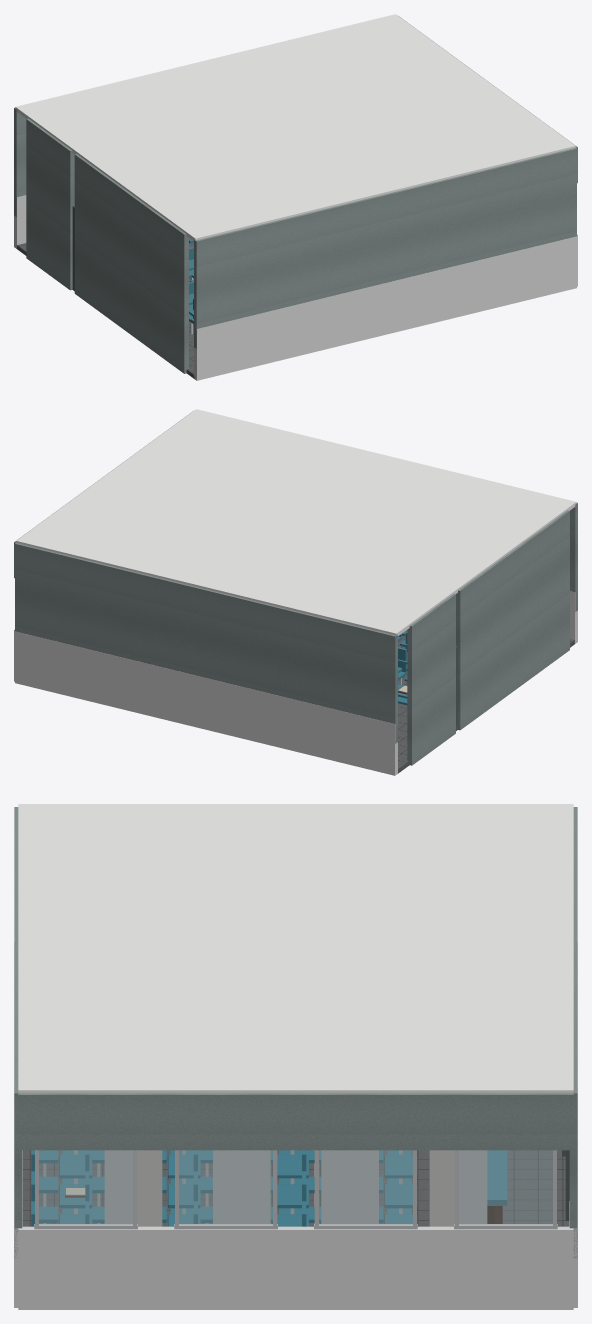
File: classroom.glb
3 views of the same model, one above another, from view 1: azimuth 30°, elevation 25°; view 2: azimuth 150°, elevation 25°; view 3: azimuth 270°, elevation 25° (orthographic). The views are drawn at different scales.
Visible parts, largest first — view 1: Ceiling_Ceiling_White, Cutaway_Wall_White, Cutaway_Wall_LowerGray; view 2: Ceiling_Ceiling_White, Cutaway_Wall_White, Cutaway_Wall_LowerGray, Static_Floor_Gray, Static_Student_Desk_Blue; view 3: Ceiling_Ceiling_White, Static_Wall_LowerGray, Static_Wall_White, Cutaway_Window_Glass, Cutaway_Curtain_Silver, Static_Student_Desk_Blue, Static_Floor_Gray, Cutaway_Metal_Gray, Cutaway_Wall_White, Cutaway_Wall_LowerGray, Static_Metal_Gray.
Boxes of the visible parts, x1,y1,x2,y2 form: Ceiling_Ceiling_White: [15, 14, 575, 240]; Cutaway_Wall_White: [14, 107, 576, 373]; Cutaway_Wall_LowerGray: [14, 195, 576, 380]; Ceiling_Ceiling_White: [16, 409, 576, 635]; Cutaway_Wall_White: [15, 502, 577, 765]; Cutaway_Wall_LowerGray: [15, 591, 577, 775]; Static_Floor_Gray: [398, 635, 574, 773]; Static_Student_Desk_Blue: [398, 631, 407, 705]; Ceiling_Ceiling_White: [18, 804, 573, 1093]; Static_Wall_LowerGray: [18, 1226, 573, 1309]; Static_Wall_White: [18, 1093, 573, 1150]; Cutaway_Window_Glass: [39, 1150, 552, 1224]; Cutaway_Curtain_Silver: [104, 1150, 487, 1226]; Static_Student_Desk_Blue: [31, 1150, 507, 1226]; Static_Floor_Gray: [22, 1150, 569, 1226]; Cutaway_Metal_Gray: [34, 1150, 557, 1229]; Cutaway_Wall_White: [14, 807, 577, 1257]; Cutaway_Wall_LowerGray: [14, 942, 577, 1307]; Static_Metal_Gray: [43, 1150, 402, 1223].
Bounding box in the file's own units: 10.12 × 3.55 × 8.33.
17 materials, 3 textured.
